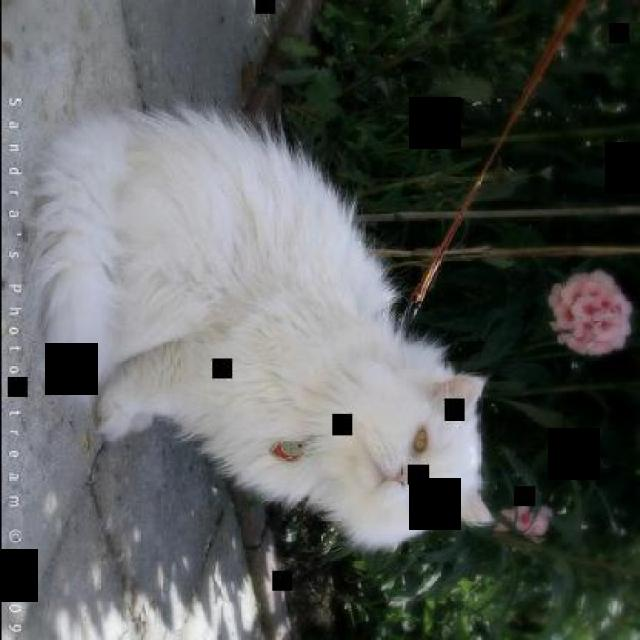unauthorized: (21, 100, 497, 555)
